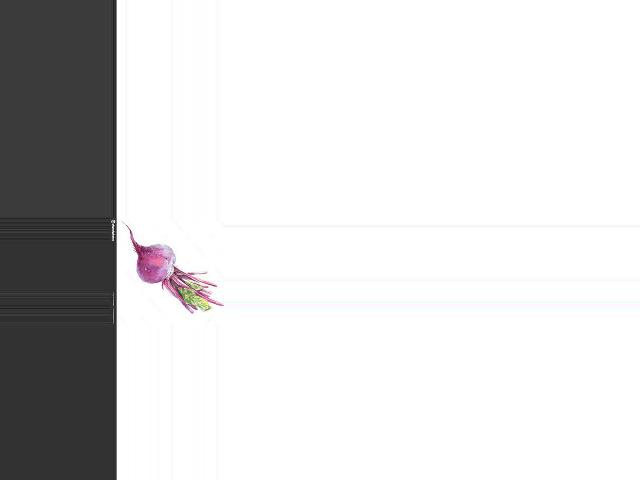beet: (121, 221, 224, 313)
